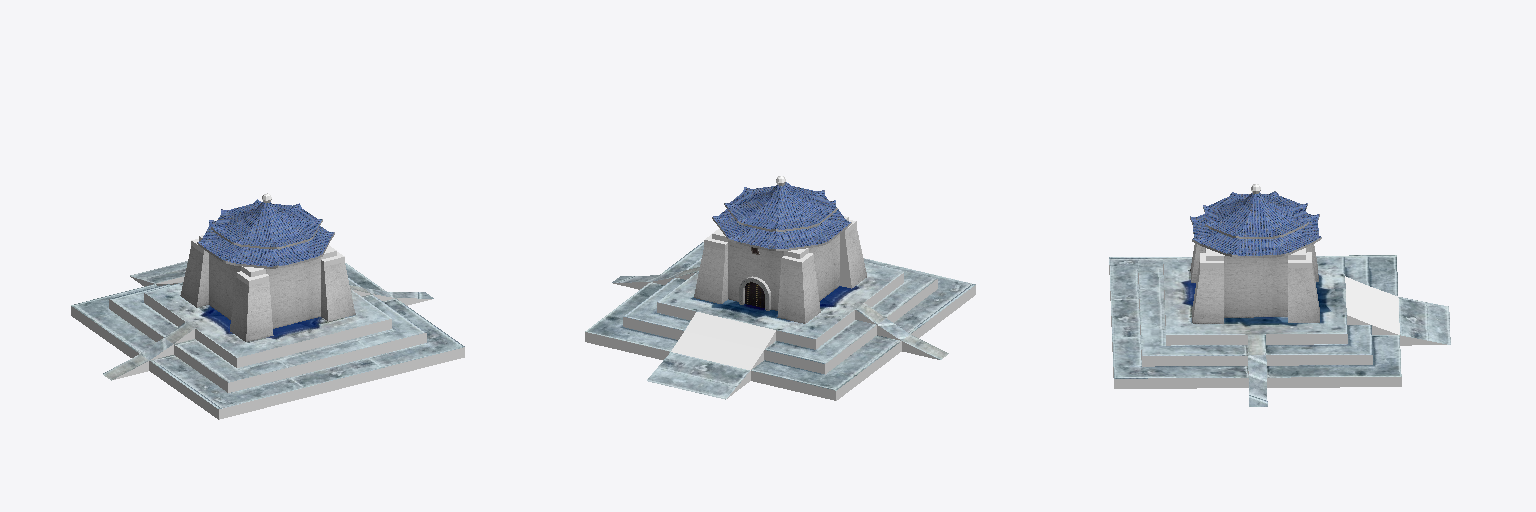
The picture shows the model from 3 angles: view 1: azimuth 30°, elevation 25°; view 2: azimuth 150°, elevation 25°; view 3: azimuth 270°, elevation 25°; orthographic projection.
Visible parts, largest first — view 1: Object.1; view 2: Object.1; view 3: Object.1.
Boxes of the visible parts, box(x1,y1,x2,y2) form: Object.1: box(71, 193, 464, 419); Object.1: box(585, 176, 975, 400); Object.1: box(1109, 184, 1450, 406).
Size of the model in its own units: 165 by 69.03 by 150.
Materials: 8 (7 with a texture image).